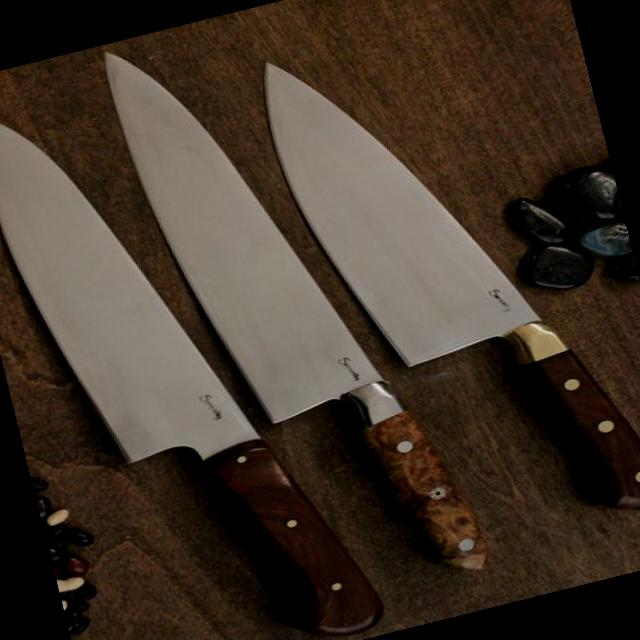knife: (87, 0, 388, 420), (245, 6, 546, 364), (0, 71, 253, 466)
